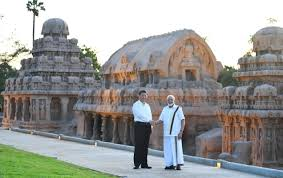Bad: (132, 90, 185, 170)
